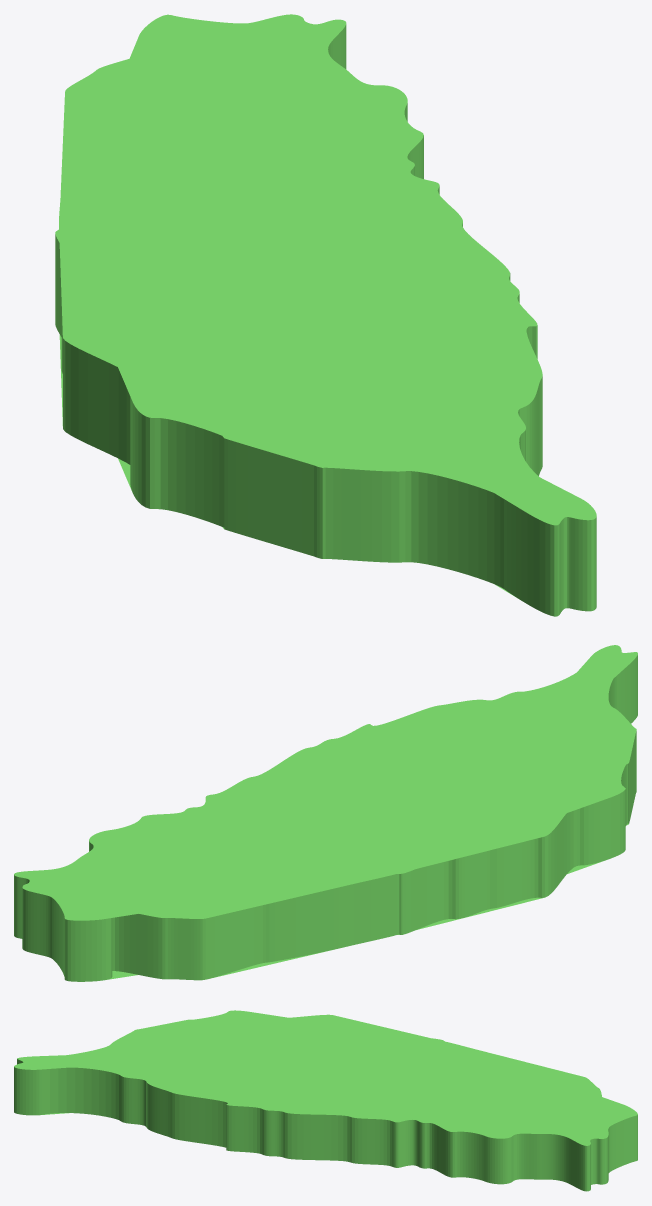
The model's file is taiwan.fbx.
The picture shows the model from 3 angles, top to bottom: view 1: azimuth 30°, elevation 25°; view 2: azimuth 150°, elevation 25°; view 3: azimuth 270°, elevation 25°; orthographic projection. The views are drawn at different scales.
Visible parts, largest first — view 1: BézierCurve; view 2: BézierCurve; view 3: BézierCurve.
Boxes of the visible parts, left/top/right/bottom form: BézierCurve: left=55, top=14, right=596, bottom=616; BézierCurve: left=14, top=645, right=637, bottom=981; BézierCurve: left=14, top=1010, right=637, bottom=1191.
Size of the model in its own units: 1928 by 302 by 3753.
